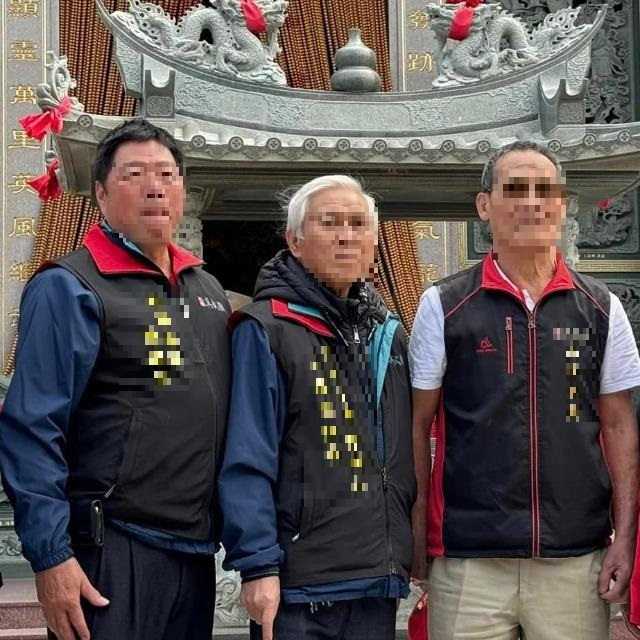NoHelmet: (91, 117, 191, 244), (476, 139, 576, 256), (283, 174, 385, 285)
NoVest: (21, 246, 232, 551), (422, 266, 640, 552), (223, 286, 423, 588)
